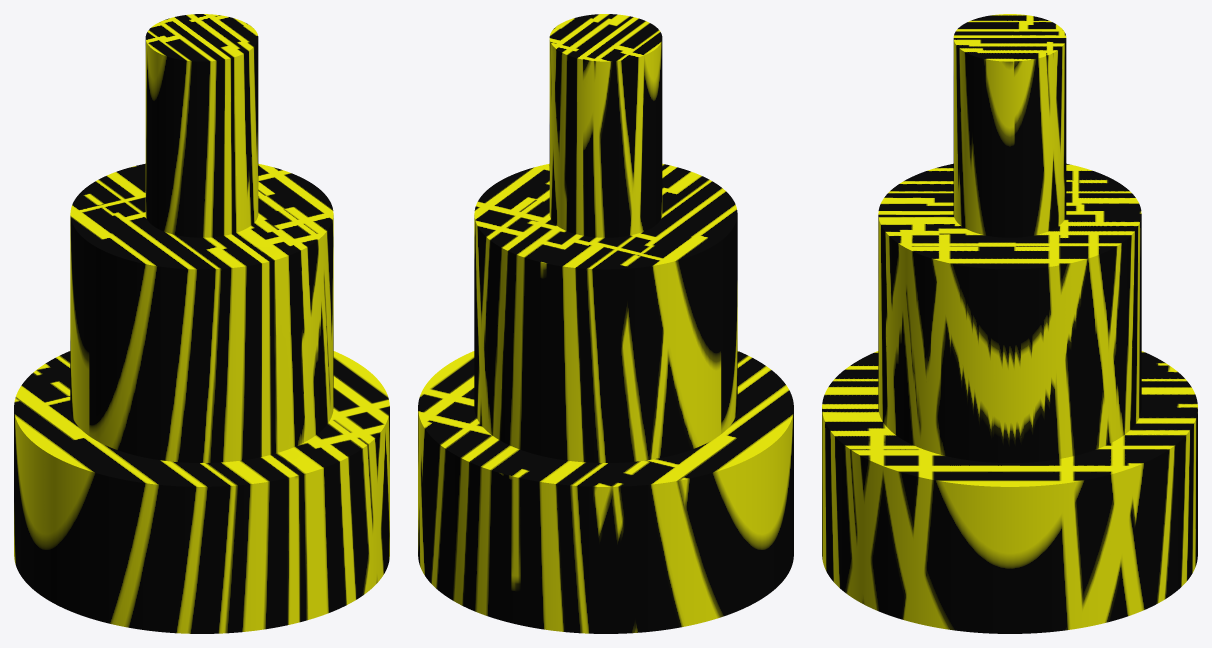
The model's file is super_computer_core.obj.
The picture shows the model from 3 angles, left to right: view 1: azimuth 30°, elevation 25°; view 2: azimuth 150°, elevation 25°; view 3: azimuth 270°, elevation 25°; orthographic projection.
Parts seen in each view (by area): view 1: super_computer_core; view 2: super_computer_core; view 3: super_computer_core.
Boxes of the visible parts, x1=… form: super_computer_core: x1=14, y1=14, x2=389, y2=633; super_computer_core: x1=418, y1=14, x2=793, y2=633; super_computer_core: x1=822, y1=14, x2=1197, y2=633.
Bounding box in the file's own units: 77.87 × 118 × 77.87.
